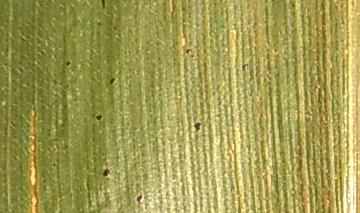tarspot: (192, 121, 202, 133), (135, 193, 144, 204), (240, 63, 250, 72), (94, 113, 103, 123), (108, 77, 116, 86), (102, 168, 110, 177), (99, 1, 106, 11), (95, 19, 103, 27), (184, 48, 193, 55), (110, 25, 118, 31), (51, 161, 57, 169), (65, 60, 71, 67)
